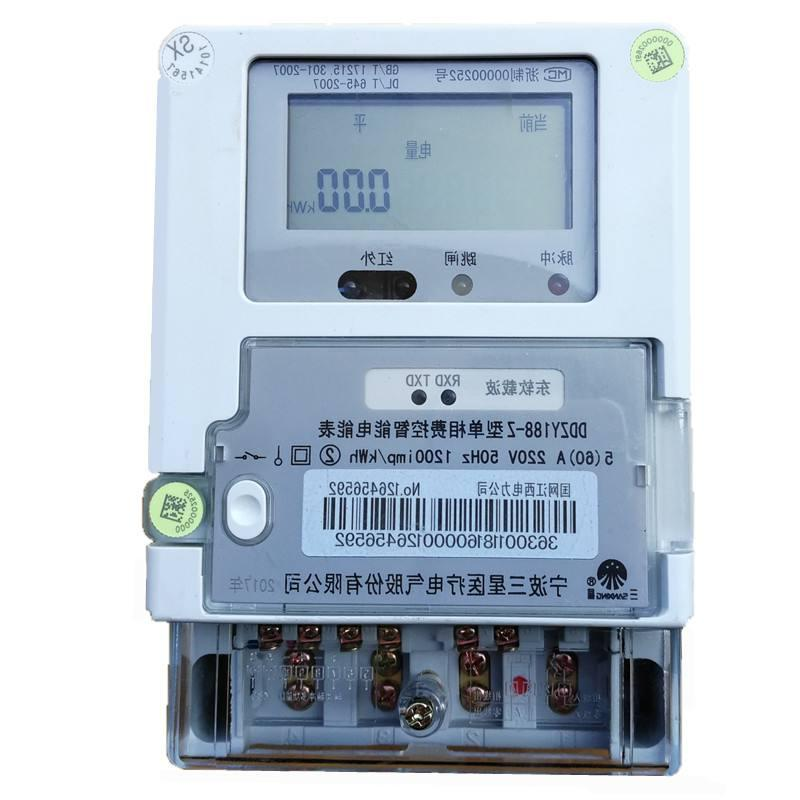digital: (145, 24, 695, 619)
